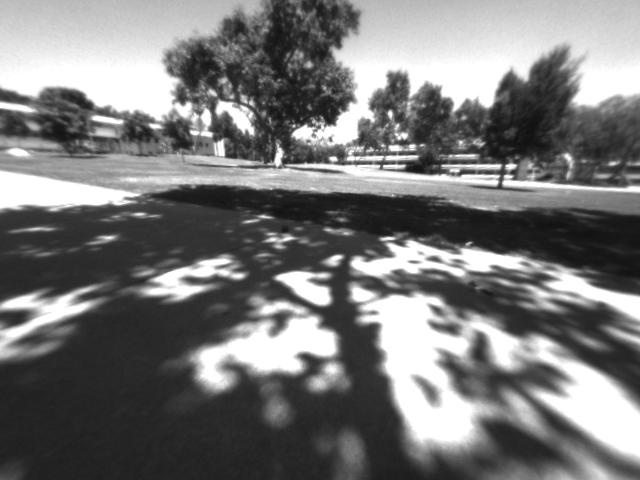dogtoy: (273, 218, 295, 235)
